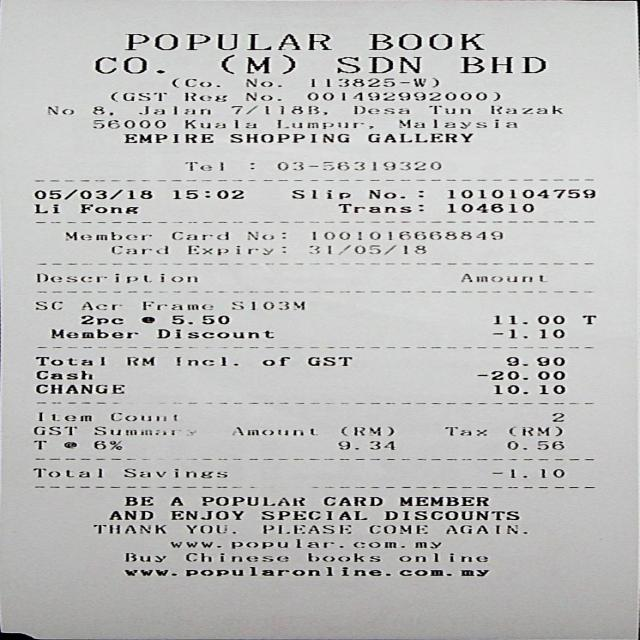text: (124, 33, 328, 49), (184, 566, 489, 576), (367, 32, 483, 49), (230, 538, 440, 547), (306, 91, 498, 100), (311, 231, 501, 239), (34, 273, 198, 282), (277, 161, 438, 170), (219, 54, 293, 73), (457, 56, 543, 72), (336, 56, 420, 72), (446, 189, 594, 198), (383, 511, 518, 520), (32, 188, 151, 198), (94, 56, 163, 73), (310, 77, 436, 86), (156, 329, 275, 338), (397, 119, 515, 128), (365, 132, 471, 142), (230, 133, 347, 142), (309, 244, 425, 253), (124, 468, 226, 478), (185, 244, 286, 254), (259, 510, 365, 519), (92, 426, 196, 435), (200, 496, 303, 505), (184, 552, 286, 561), (398, 496, 487, 506), (476, 370, 564, 380), (231, 105, 325, 114), (444, 524, 525, 534), (397, 552, 486, 561), (35, 383, 123, 392), (261, 524, 348, 533), (336, 203, 422, 212), (64, 231, 150, 240), (50, 329, 136, 338), (447, 203, 532, 212), (277, 120, 372, 128), (492, 328, 564, 338), (492, 384, 564, 394), (123, 134, 212, 142), (492, 314, 562, 324), (459, 273, 541, 281), (91, 119, 163, 128), (169, 510, 241, 519), (306, 552, 378, 561), (232, 426, 312, 434), (183, 119, 254, 128), (34, 356, 105, 365), (138, 105, 208, 114), (232, 301, 302, 310), (492, 468, 562, 477), (142, 301, 211, 310), (32, 468, 101, 477), (174, 356, 236, 366), (173, 189, 241, 198), (92, 524, 165, 532), (505, 356, 562, 366), (489, 105, 560, 113), (170, 314, 226, 324), (369, 524, 425, 534), (108, 412, 174, 420), (322, 496, 380, 505), (109, 245, 166, 254), (505, 440, 562, 449), (366, 189, 422, 198), (35, 369, 90, 378), (111, 92, 164, 101), (37, 412, 89, 421), (339, 426, 391, 435), (290, 190, 348, 198), (508, 426, 559, 435), (305, 356, 350, 366), (184, 524, 234, 533), (79, 204, 135, 212), (124, 552, 165, 562), (172, 78, 217, 87), (106, 510, 151, 519), (170, 232, 226, 239), (184, 92, 226, 101), (352, 106, 406, 113), (79, 315, 121, 324), (444, 426, 485, 435), (33, 426, 76, 434), (183, 161, 220, 170), (428, 105, 469, 113), (123, 569, 174, 575), (169, 541, 219, 547), (245, 78, 279, 86), (245, 92, 279, 100), (81, 302, 119, 309), (123, 496, 152, 505), (261, 356, 287, 366), (247, 232, 284, 239), (92, 440, 119, 449), (46, 105, 72, 114), (127, 356, 152, 365), (32, 204, 58, 212), (34, 301, 60, 309), (368, 441, 393, 449), (90, 106, 111, 114), (580, 314, 594, 324), (337, 441, 357, 448), (168, 496, 181, 505), (32, 439, 44, 448), (139, 316, 154, 322), (552, 412, 562, 421), (61, 441, 74, 447)
